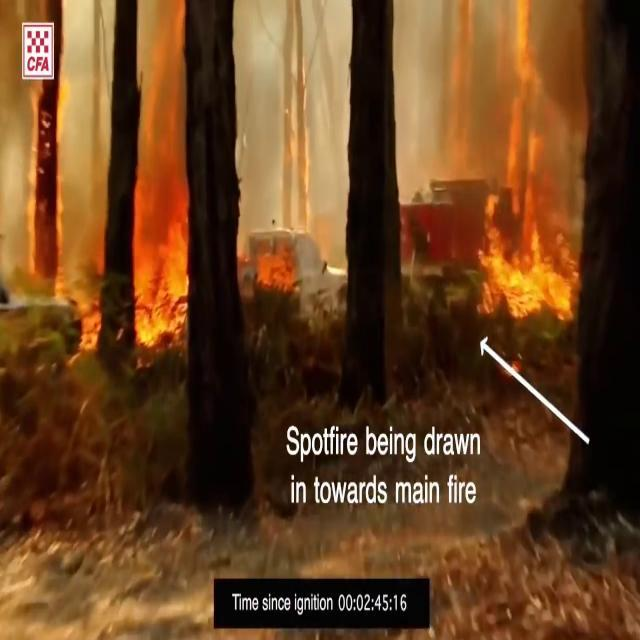Fire: (462, 9, 582, 324), (13, 79, 108, 356), (132, 195, 192, 352), (240, 222, 304, 307)
